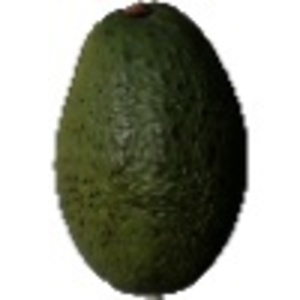abacate: (49, 1, 251, 294)
